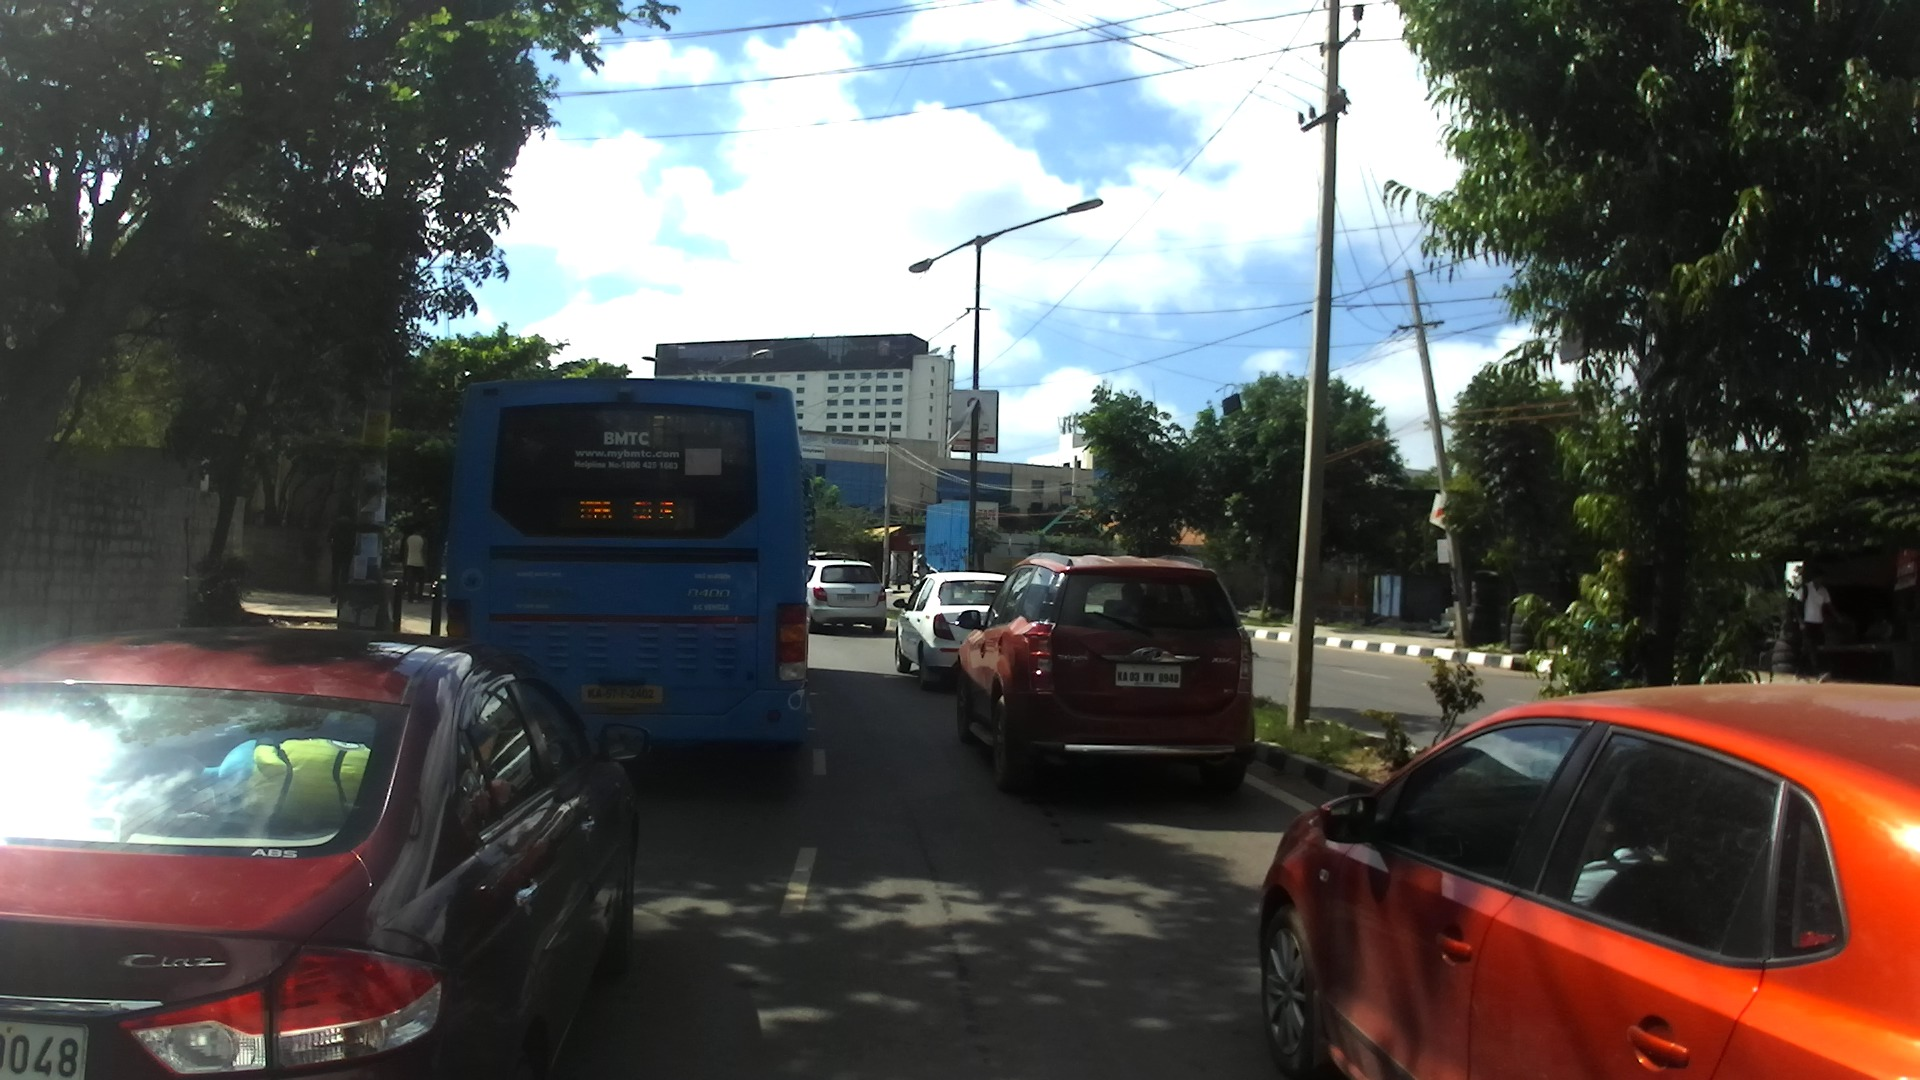bus: (442, 376, 813, 762)
car: (2, 631, 648, 1080), (1259, 687, 1918, 1080), (953, 554, 1259, 793), (893, 571, 1011, 691), (809, 552, 890, 638)
motorcycle: (911, 567, 931, 587)
person: (1803, 565, 1837, 687), (327, 507, 352, 608), (404, 526, 429, 603), (399, 527, 413, 597)
rider: (911, 552, 935, 581)
